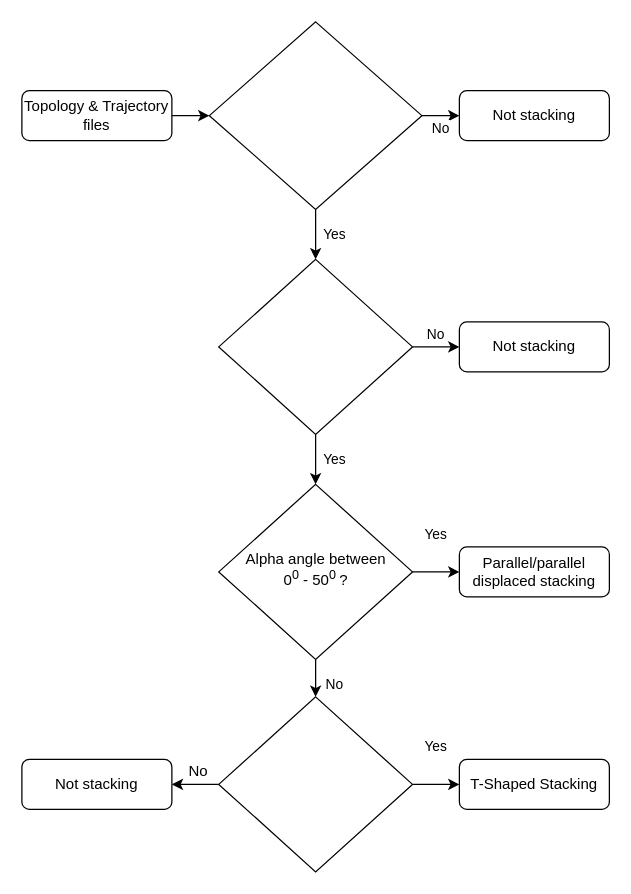
Some shapes in this 631 by 894 pixel diagram are drawn without their labels. Here are the shapes that lost their labels. From the top down, the box of each, then its label:
(208, 21, 422, 209): Ring pair within 2 Å - 5 Å distance between center of geomtry
(218, 258, 412, 434): Ring pair different fragment?
(218, 696, 412, 872): Alpha angle between 80 0 - 90 0 ?
